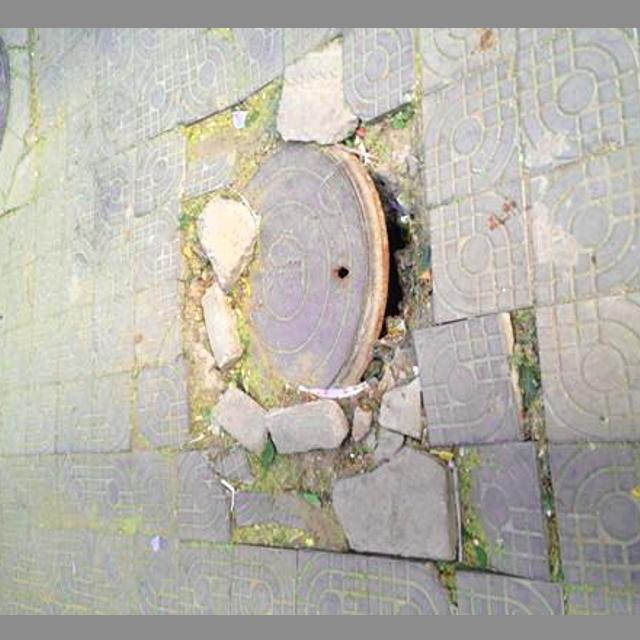circle: (175, 103, 460, 566)
